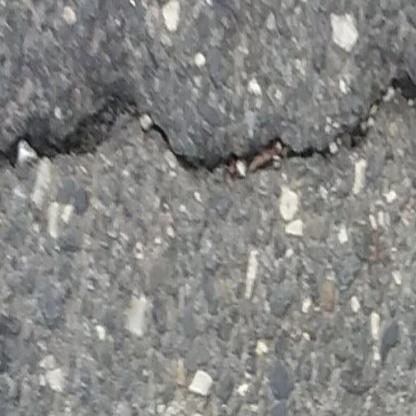Cracks: (0, 58, 416, 199)
